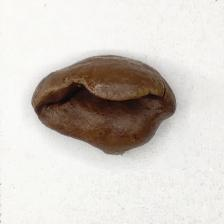NG: (34, 78, 176, 153)
